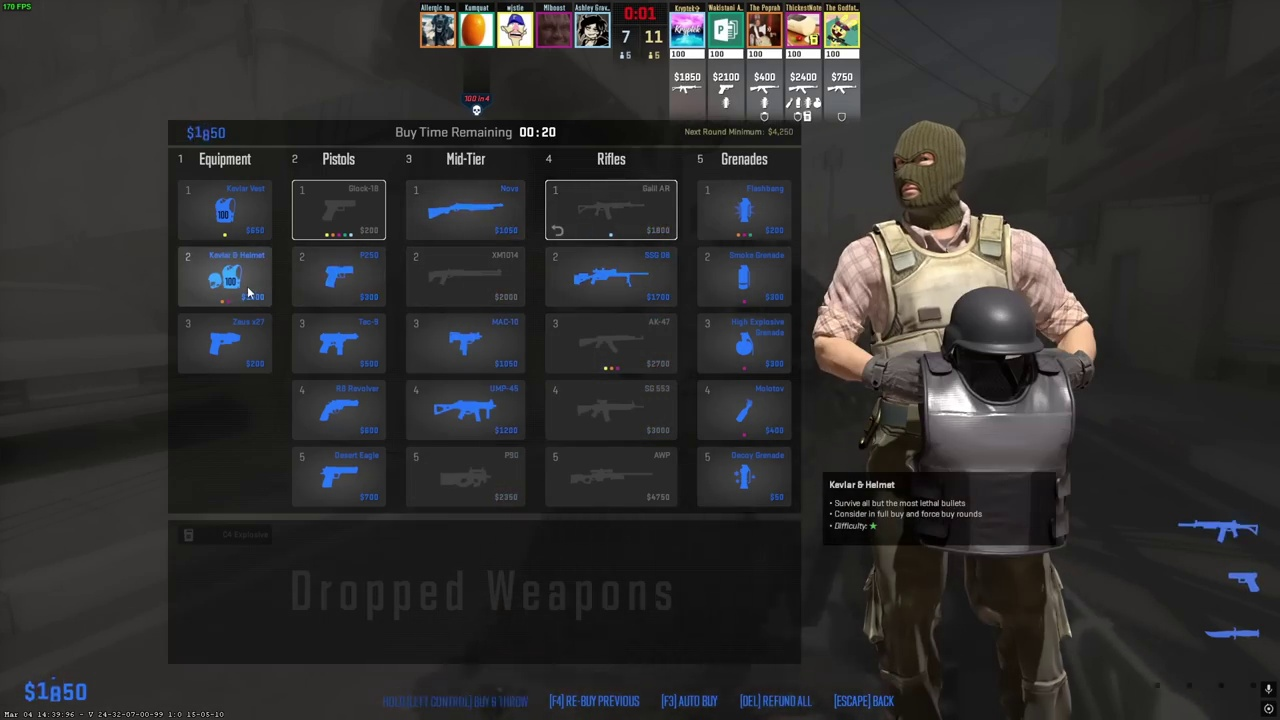Terrorist: (852, 118, 1085, 720)
